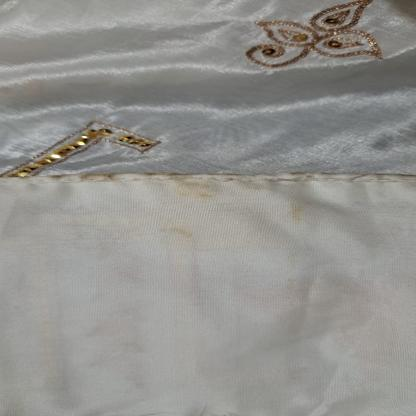spot: (175, 178, 215, 204), (282, 251, 302, 292), (205, 172, 250, 185), (288, 170, 338, 181), (162, 226, 198, 241), (77, 172, 127, 182), (140, 170, 190, 180), (285, 205, 310, 224), (378, 171, 416, 183), (240, 182, 266, 192), (44, 172, 70, 180)
